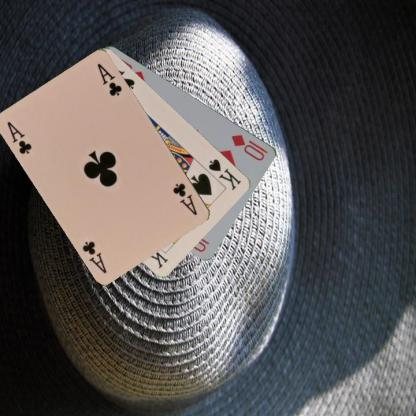10d: (229, 132, 269, 162)
Ac: (4, 118, 34, 156), (170, 180, 199, 217)
Ks: (206, 156, 243, 191)
